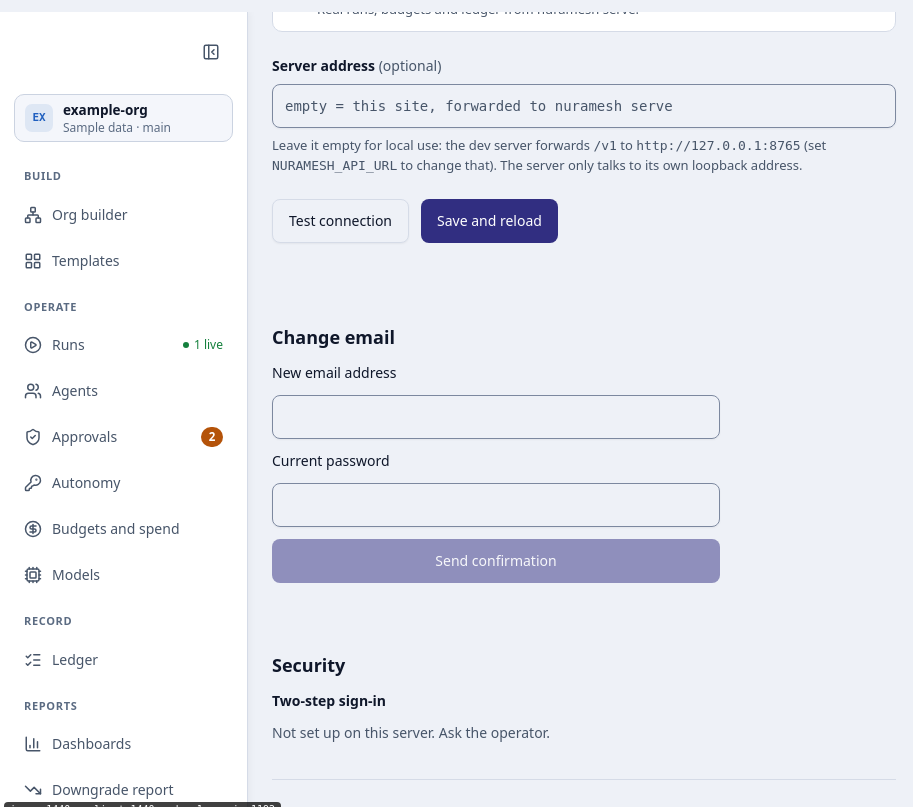
A-V1: account settings, change email › sends the typed address and password, then always ends on 'check your new inbox' and clears the form
The width and height of the screenshot is (913, 807).
(page scrolled)
Type " ada.new@example.org " into the field labelled "New email address" at (496, 417), box [272,395,720,439]
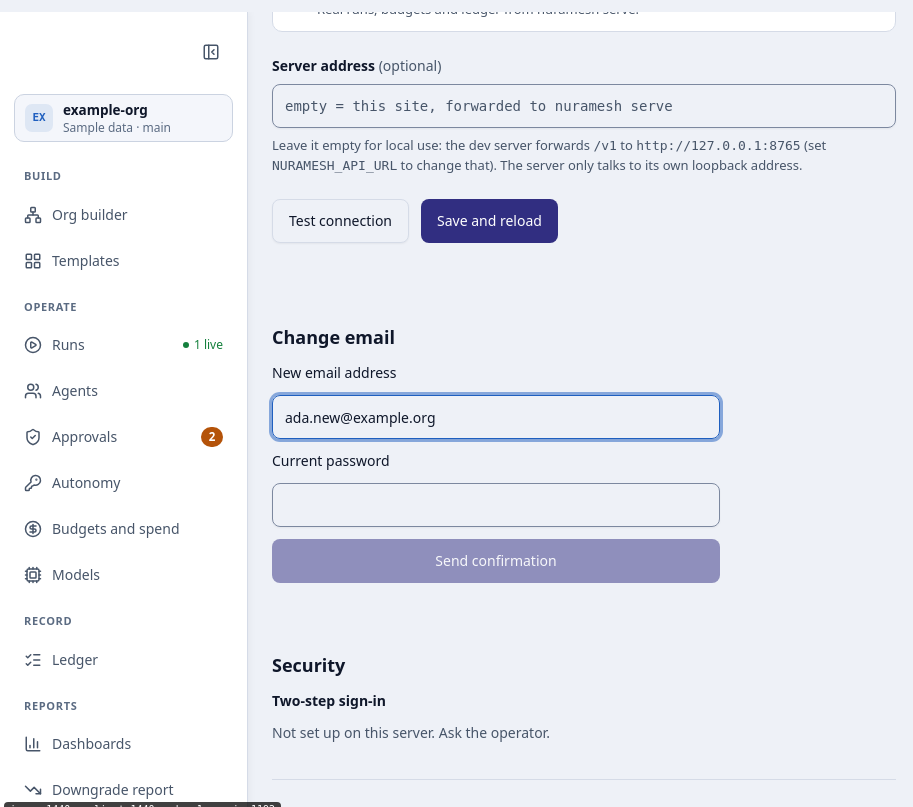
Type "obviously-fake-test-password" into the password field labelled "Current password" at (496, 505), box [272,483,720,527]
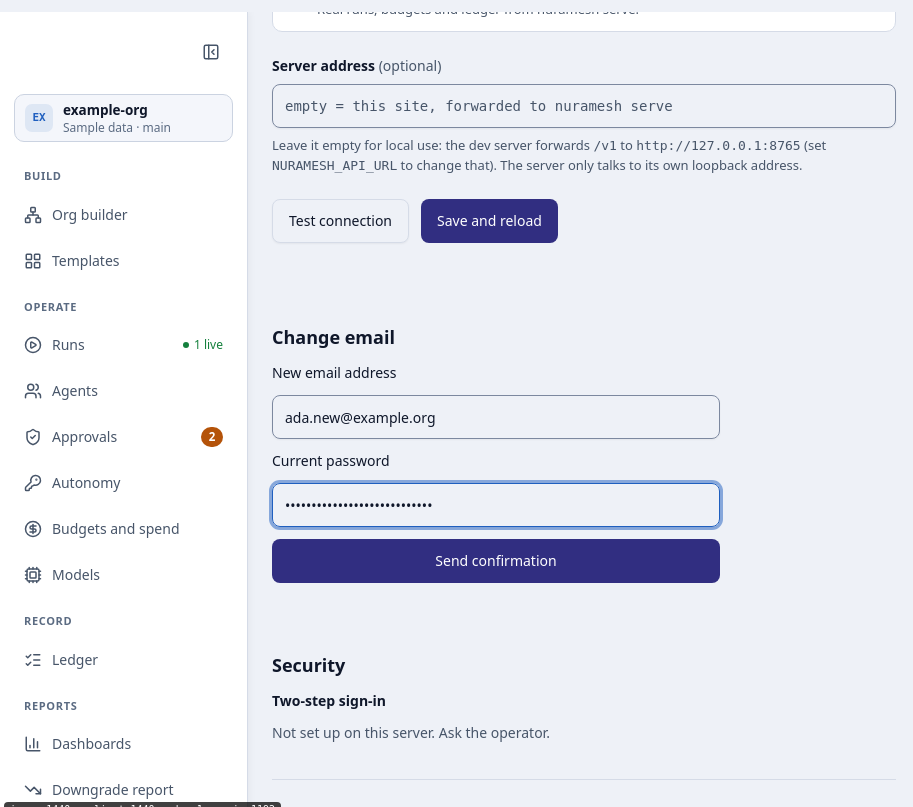
Click the button "Send confirmation" at (496, 561), box [272,539,720,583]
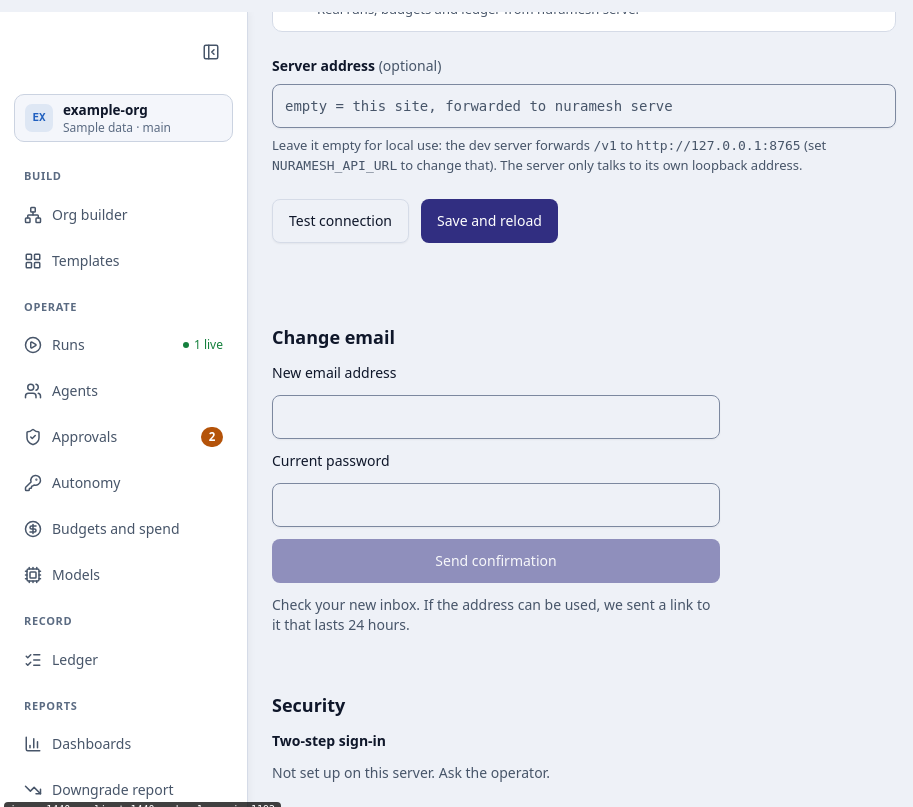
Now the text "Check your new inbox" is shown, box [272,595,710,634]
Now the password field labelled "Current password" is empty, box [272,483,720,527]
Now the field labelled "New email address" is empty, box [272,395,720,439]
